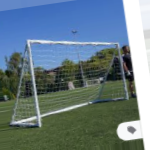goals: (10, 38, 130, 127)
